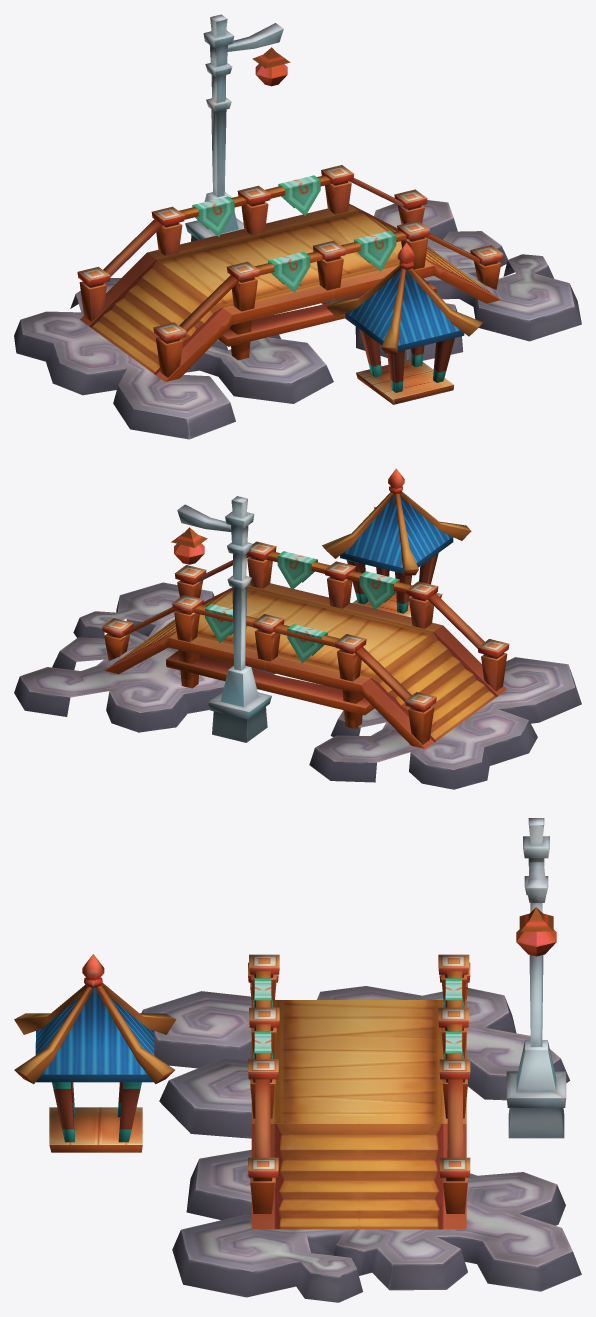
Rendered from Bigmap_Kuaxiazhiru.FBX.
3 renders of one model, top to bottom at view 1: azimuth 30°, elevation 25°; view 2: azimuth 150°, elevation 25°; view 3: azimuth 270°, elevation 25°, orthographic. The views are drawn at different scales.
Visible parts, largest first — view 1: fuben_07, Object44, Object14, Object27, Object19; view 2: fuben_07, Object44, Object27, Object14, Object19; view 3: fuben_07, Object27, Object44, Object14, Object19.
Boxes of the visible parts, <box> form: fuben_07: <box>77,165,503,381</box>; Object44: <box>14,278,333,439</box>; Object14: <box>326,243,482,404</box>; Object27: <box>321,200,581,360</box>; Object19: <box>185,14,290,241</box>; fuben_07: <box>102,541,509,748</box>; Object44: <box>309,657,581,789</box>; Object27: <box>14,582,275,732</box>; Object14: <box>322,468,471,617</box>; Object19: <box>171,496,271,742</box>; fuben_07: <box>248,954,470,1229</box>; Object27: <box>172,1149,581,1302</box>; Object44: <box>141,986,569,1138</box>; Object14: <box>14,954,176,1152</box>; Object19: <box>506,818,566,1138</box>.
Size of the model in its own units: 79.58 by 40.38 by 63.75.
